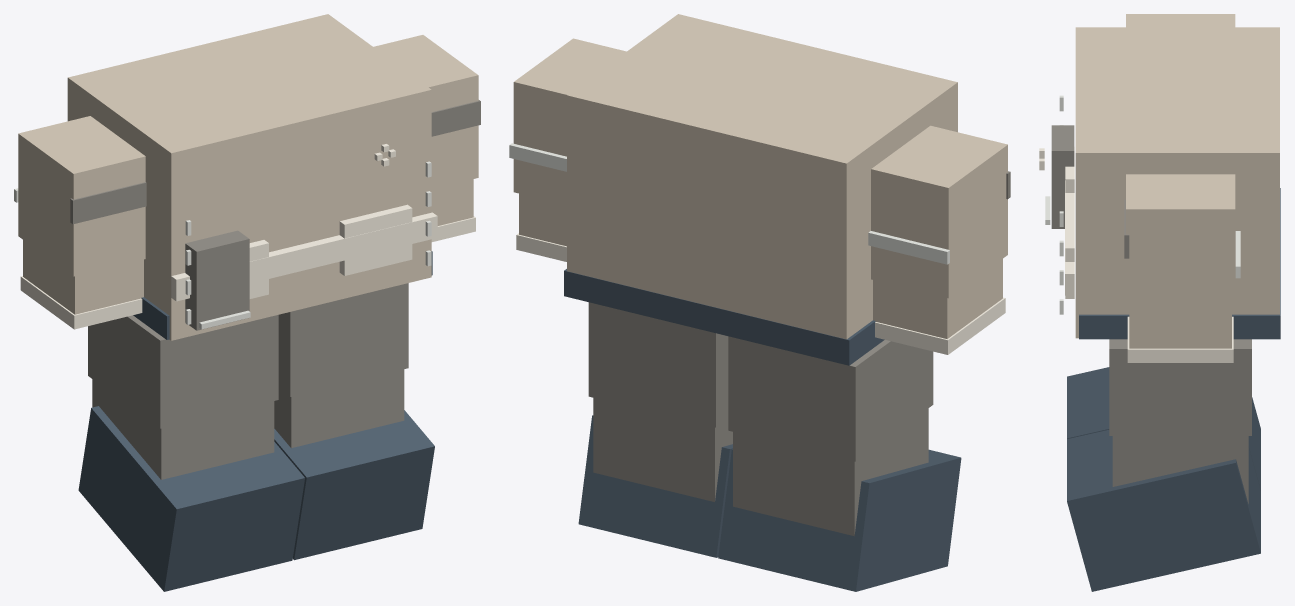
Rendered from workwear-sand.glb.
3 renders of one model, left to right at view 1: azimuth 30°, elevation 25°; view 2: azimuth 150°, elevation 25°; view 3: azimuth 270°, elevation 25°, orthographic. The views are drawn at different scales.
Visible parts, largest first — view 1: jacket, shoe-Right, trouser-Right, upper-sleeve-Right, shoe-Left, trouser-Left, lower-trouser-Right, lower-trouser-Left, upper-sleeve-Left, tool-pocket, reflective-band, lower-sleeve-Right (+8 smaller); view 2: jacket, trouser-Right, shoe-Right, upper-sleeve-Right, trouser-Left, lower-trouser-Right, lower-trouser-Left, shoe-Left, upper-sleeve-Left, utility-belt, lower-sleeve-Right, cuff-Right (+4 smaller); view 3: jacket, shoe-Left, upper-sleeve-Left, trouser-Left, lower-trouser-Left, lower-sleeve-Left, shoe-Right, utility-belt, tool-pocket, cuff-Left, upper-sleeve-Right, reflective-band (+1 smaller).
Part boxes in pixels (bbox=[...]): jacket: bbox=[67, 14, 431, 340]; shoe-Right: bbox=[78, 406, 304, 591]; trouser-Right: bbox=[88, 315, 278, 428]; upper-sleeve-Right: bbox=[18, 116, 145, 276]; shoe-Left: bbox=[274, 410, 434, 560]; trouser-Left: bbox=[278, 283, 408, 396]; lower-trouser-Right: bbox=[92, 379, 274, 479]; lower-trouser-Left: bbox=[274, 369, 404, 448]; upper-sleeve-Left: bbox=[373, 35, 478, 188]; tool-pocket: bbox=[185, 230, 249, 330]; reflective-band: bbox=[171, 212, 437, 301]; lower-sleeve-Right: bbox=[23, 240, 143, 314]; jacket: bbox=[567, 14, 957, 339]; trouser-Right: bbox=[728, 336, 933, 461]; shoe-Right: bbox=[718, 449, 961, 591]; upper-sleeve-Right: bbox=[871, 125, 1007, 298]; trouser-Left: bbox=[588, 302, 728, 427]; lower-trouser-Right: bbox=[733, 408, 928, 536]; lower-trouser-Left: bbox=[593, 398, 732, 501]; shoe-Left: bbox=[578, 415, 732, 557]; upper-sleeve-Left: bbox=[513, 38, 626, 204]; utility-belt: bbox=[564, 269, 884, 365]; lower-sleeve-Right: bbox=[873, 259, 1002, 338]; cuff-Right: bbox=[875, 297, 1005, 354]; jacket: bbox=[1075, 27, 1279, 338]; shoe-Left: bbox=[1067, 430, 1260, 591]; upper-sleeve-Left: bbox=[1126, 174, 1235, 310]; trouser-Left: bbox=[1109, 339, 1251, 435]; lower-trouser-Left: bbox=[1112, 436, 1248, 503]; lower-sleeve-Left: bbox=[1129, 310, 1231, 348]; shoe-Right: bbox=[1067, 367, 1260, 490]; utility-belt: bbox=[1079, 188, 1280, 339]; tool-pocket: bbox=[1051, 125, 1074, 228]; cuff-Left: bbox=[1127, 316, 1233, 362]; upper-sleeve-Right: bbox=[1126, 14, 1235, 27]; reflective-band: bbox=[1065, 180, 1074, 295].
Bounding box in the file's own units: 1.08 × 1.13 × 0.56.
